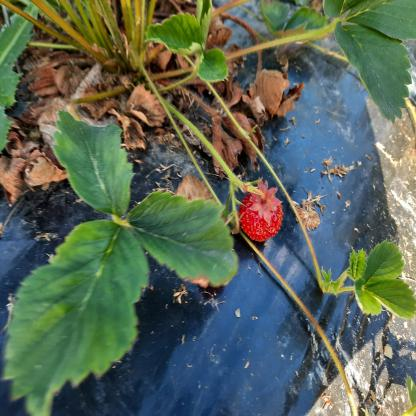ripe: (241, 188, 287, 240)
